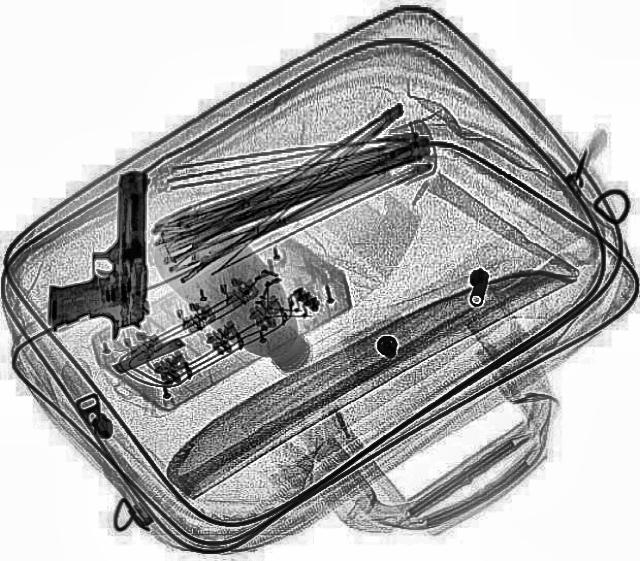Gun: (45, 171, 149, 338)
